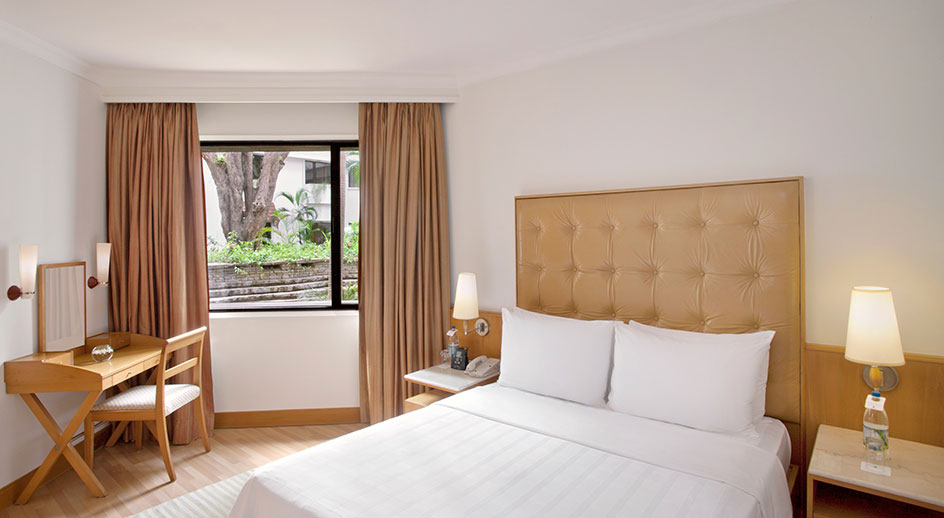chair: (88, 326, 205, 500)
